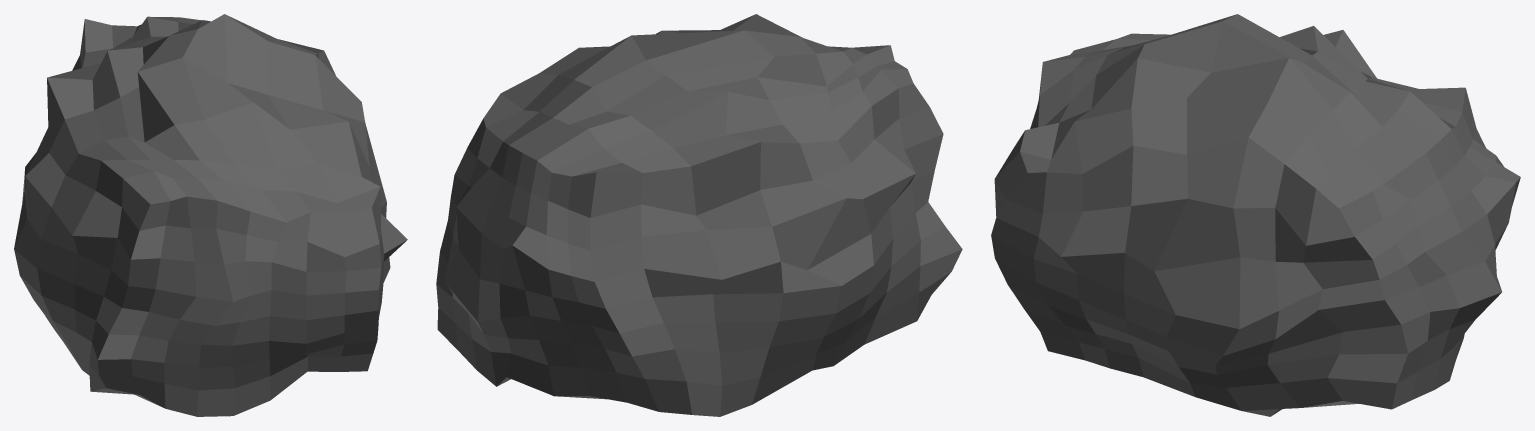
The model's file is Rock.glb.
The picture shows the model from 3 angles, left to right: view 1: azimuth 30°, elevation 25°; view 2: azimuth 150°, elevation 25°; view 3: azimuth 270°, elevation 25°; orthographic projection. The views are drawn at different scales.
Parts seen in each view (by area): view 1: Rock-col; view 2: Rock-col; view 3: Rock-col.
Boxes of the visible parts, x1,y1,x2,y2 form: Rock-col: (14,14,407,416); Rock-col: (436,14,962,416); Rock-col: (991,14,1520,416).
Bounding box in the file's own units: 8.73 × 7.44 × 10.97.
1 material, 1 textured.
